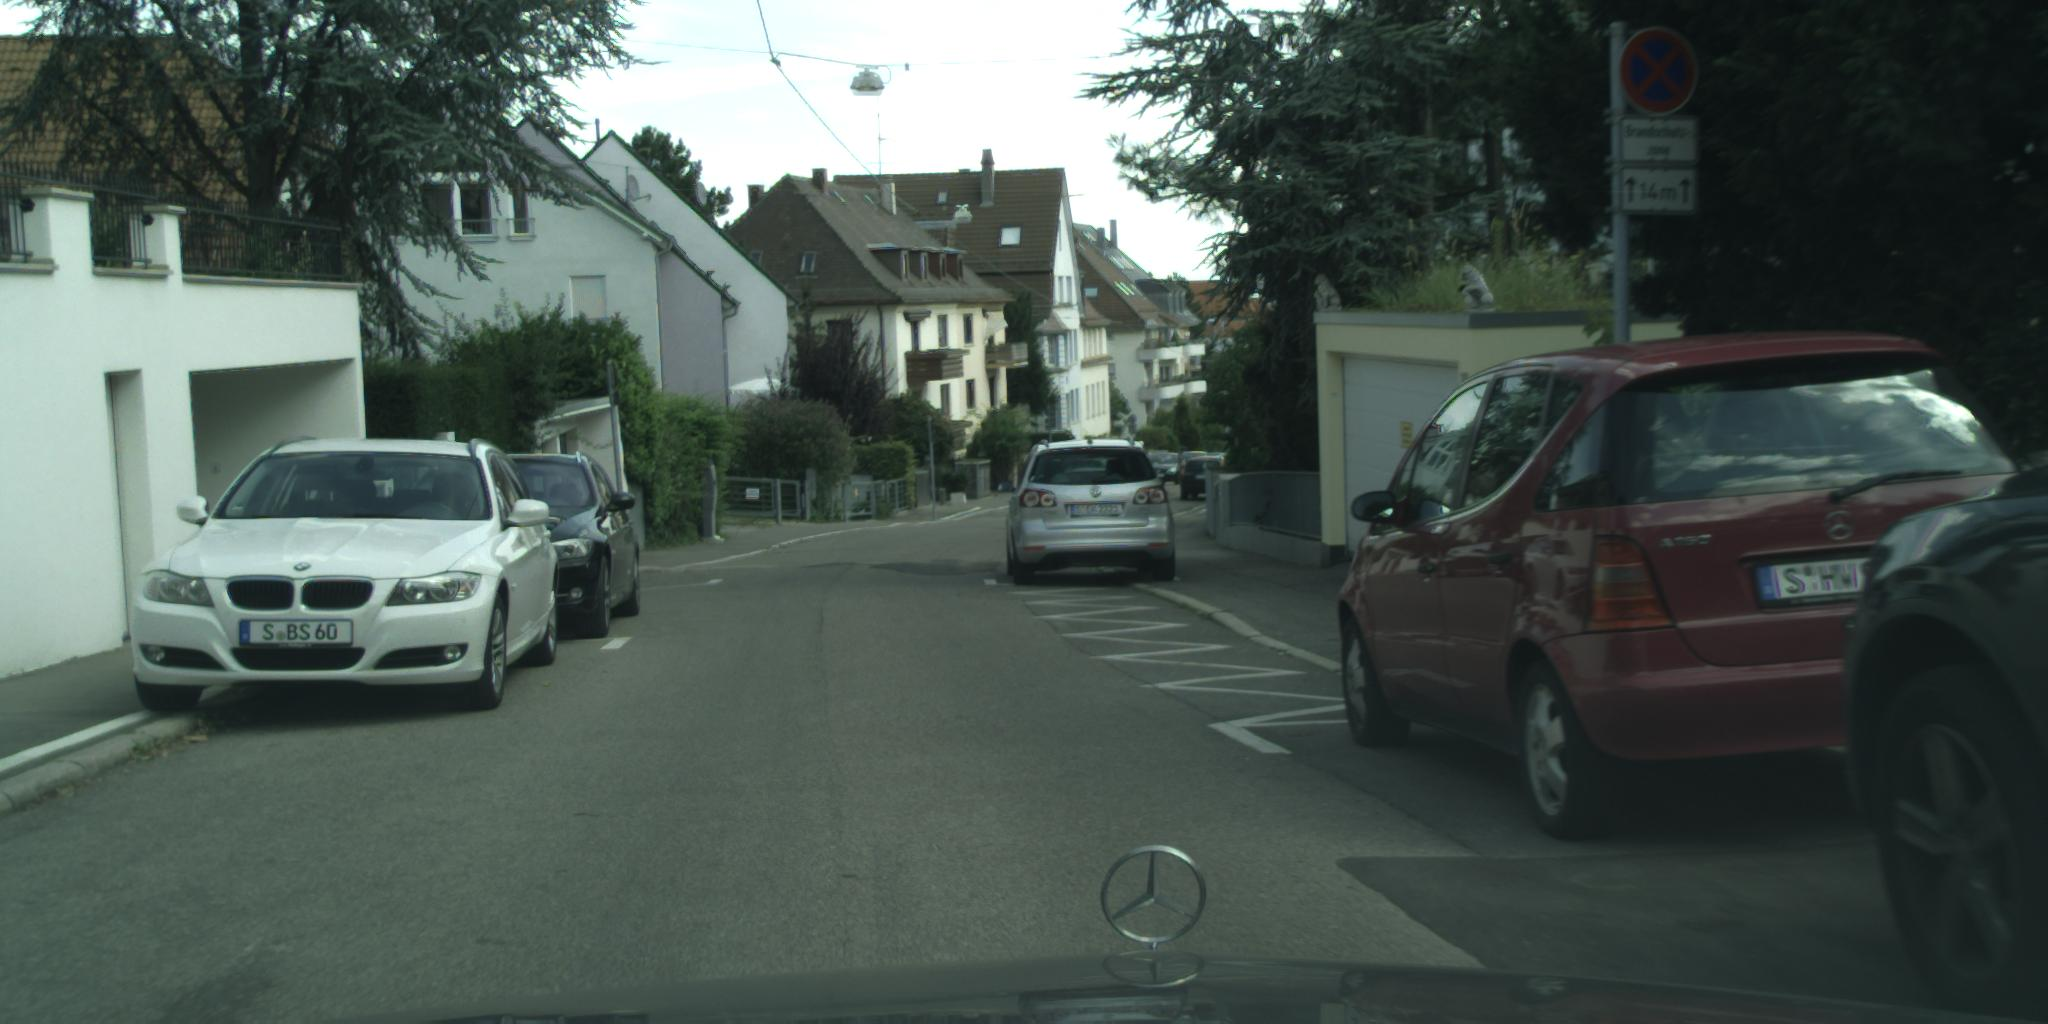car: (1337, 333, 2034, 841), (127, 435, 562, 716), (1843, 455, 2045, 1023), (491, 449, 643, 637), (994, 436, 1177, 585), (1181, 456, 1224, 502)
